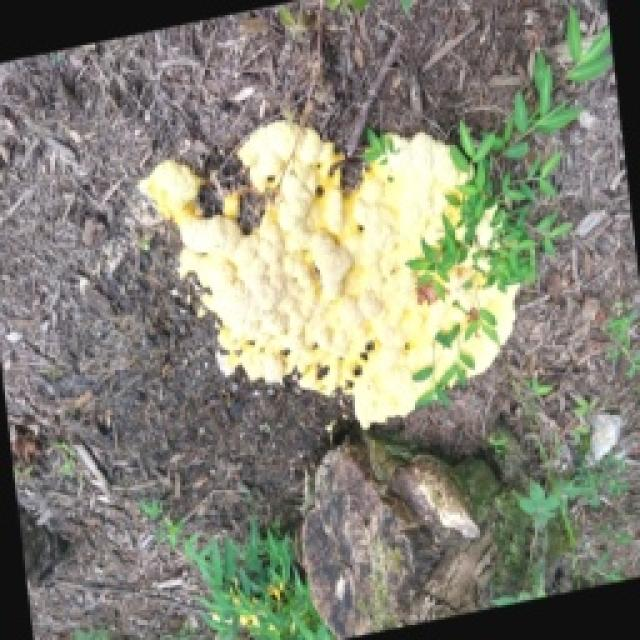Dog_vomit_slime_mold: (128, 106, 542, 442)
